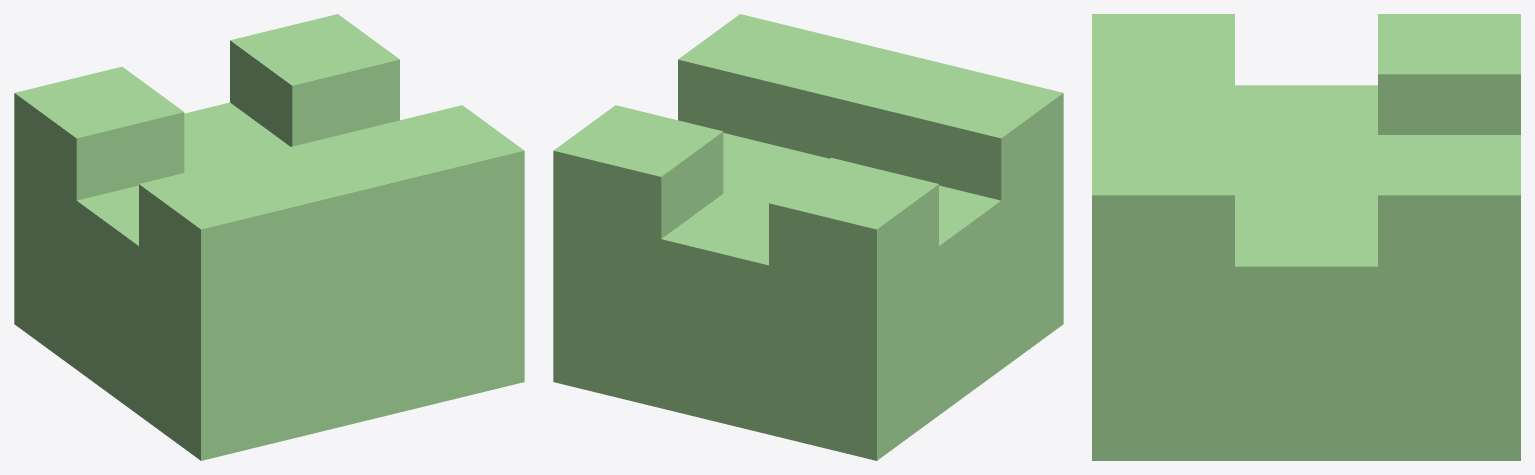
The model's file is TBlock.fbx.
The picture shows the model from 3 angles, left to right: view 1: azimuth 30°, elevation 25°; view 2: azimuth 150°, elevation 25°; view 3: azimuth 270°, elevation 25°; orthographic projection. The views are drawn at different scales.
Parts seen in each view (by area): view 1: Cube.004; view 2: Cube.004; view 3: Cube.004.
Boxes of the visible parts, x1,y1,x2,y2 form: Cube.004: (14,14,524,460); Cube.004: (553,14,1063,460); Cube.004: (1092,14,1520,460).
Size of the model in its own units: 400 by 273 by 400.
